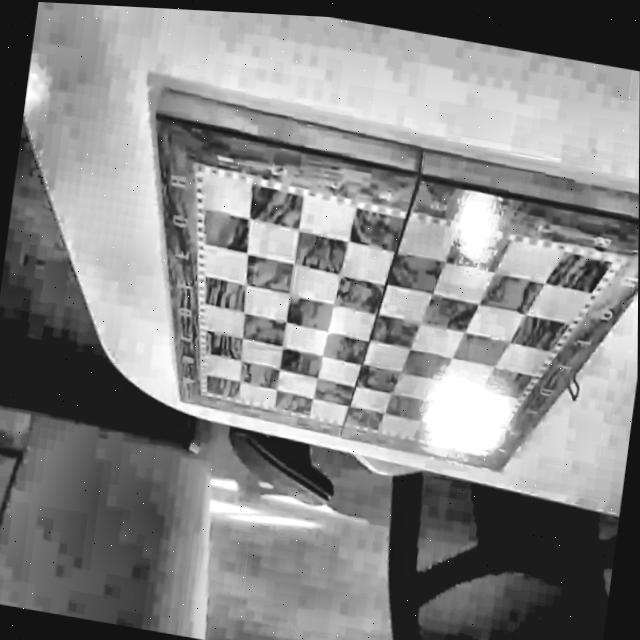chessboard: (193, 161, 624, 459)
p1: (203, 386, 212, 394)
p2: (477, 445, 485, 454)
p3: (602, 260, 611, 273)
p4: (200, 171, 208, 181)
